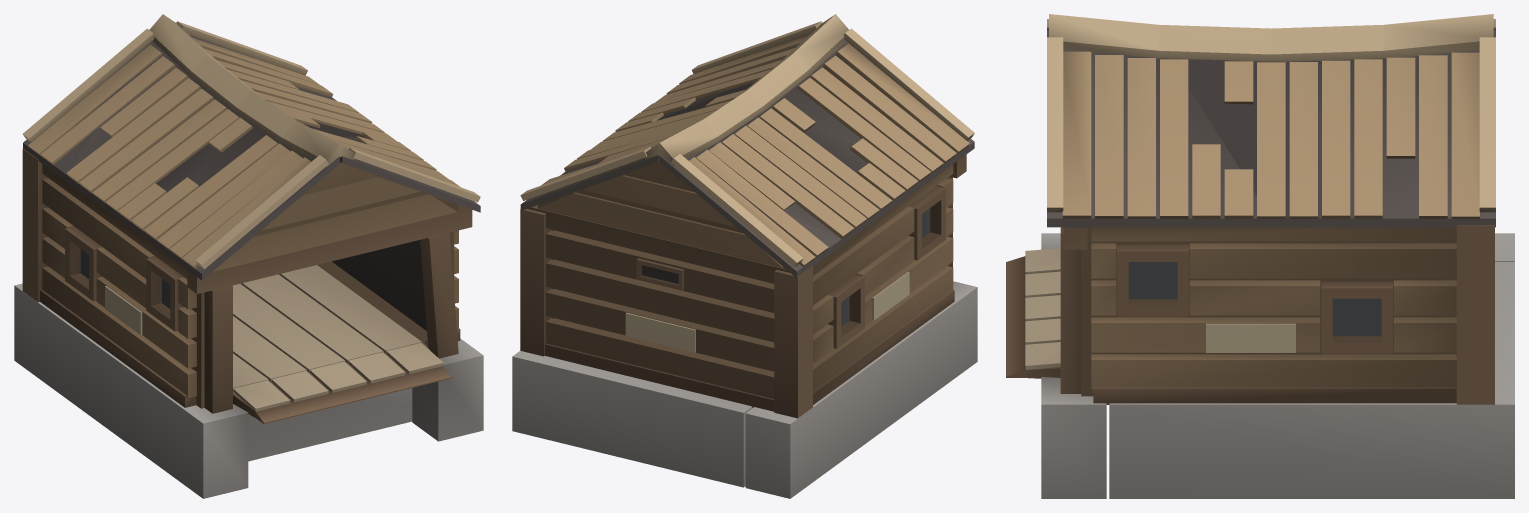
Rendered from boatshed.glb.
3 renders of one model, left to right at view 1: azimuth 30°, elevation 25°; view 2: azimuth 150°, elevation 25°; view 3: azimuth 270°, elevation 25°, orthographic. The views are drawn at different scales.
Parts seen in each view (by area): view 1: boatshed; view 2: boatshed; view 3: boatshed.
Part boxes in pixels (<box>): boatshed: <box>14,14,483,498</box>; boatshed: <box>512,14,977,498</box>; boatshed: <box>1006,14,1514,498</box>.
Bounding box in the file's own units: 6 × 6.48 × 7.48.
